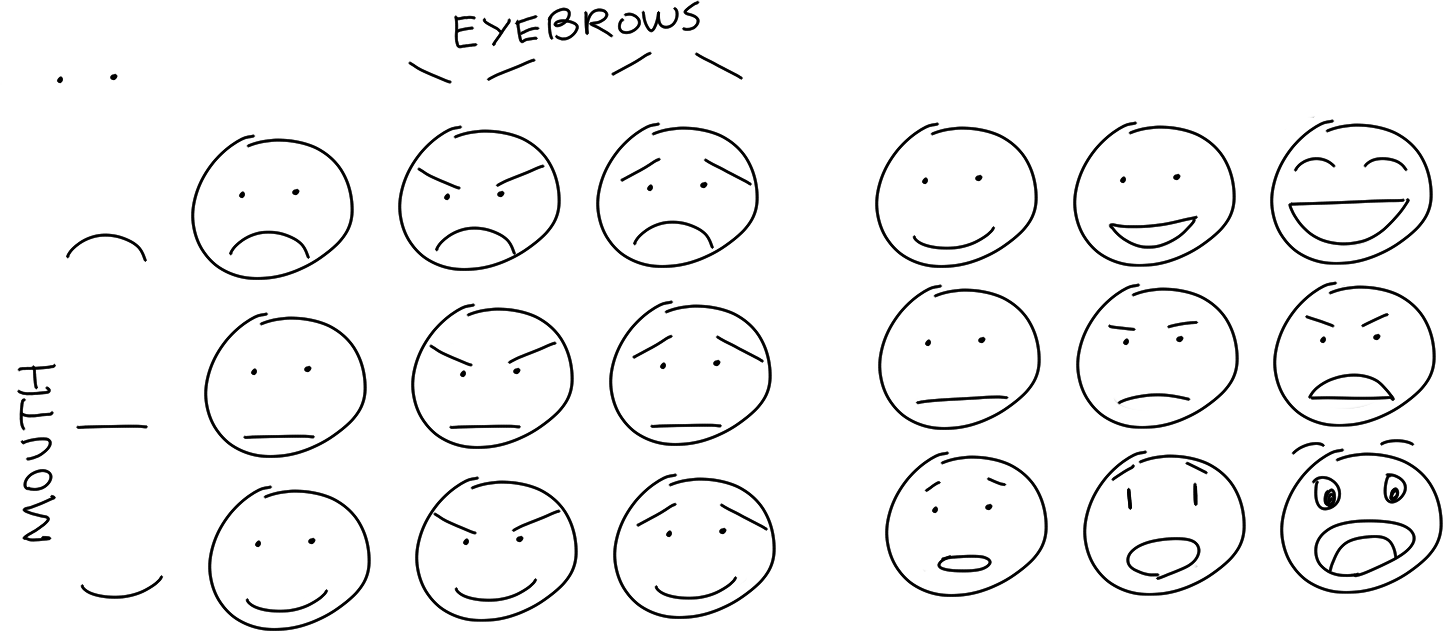feliz: (1071, 115, 1242, 271), (1266, 113, 1442, 264), (880, 112, 1044, 268), (1290, 155, 1413, 247), (900, 170, 1009, 247), (1102, 167, 1200, 251)
